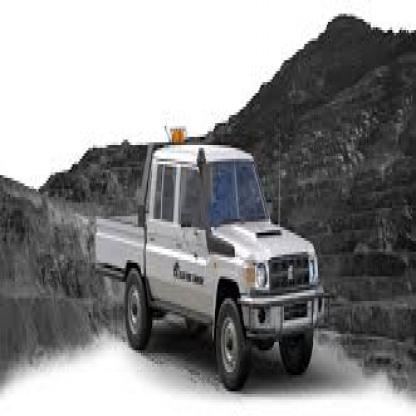light_vehicle: (89, 93, 326, 400)
